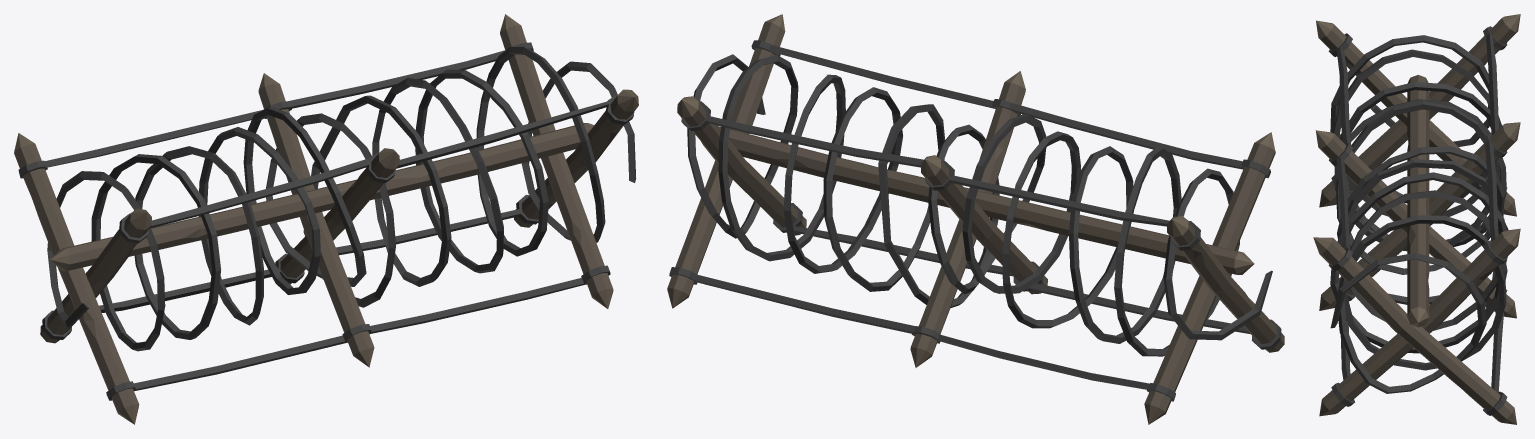
The model's file is Prop_Wire_01_01.fbx.
The picture shows the model from 3 angles, left to right: view 1: azimuth 30°, elevation 25°; view 2: azimuth 150°, elevation 25°; view 3: azimuth 270°, elevation 25°; orthographic projection. The views are drawn at different scales.
Visible parts, largest first — view 1: Prop_Wire_01_01_LOD0; view 2: Prop_Wire_01_01_LOD0; view 3: Prop_Wire_01_01_LOD0.
Part boxes in pixels (x1,y1,x2,y2): Prop_Wire_01_01_LOD0: (14,14,638,424); Prop_Wire_01_01_LOD0: (667,14,1284,424); Prop_Wire_01_01_LOD0: (1313,14,1520,424).
Size of what is drawn, in the model's own units: 235 by 88.28 by 84.2.
